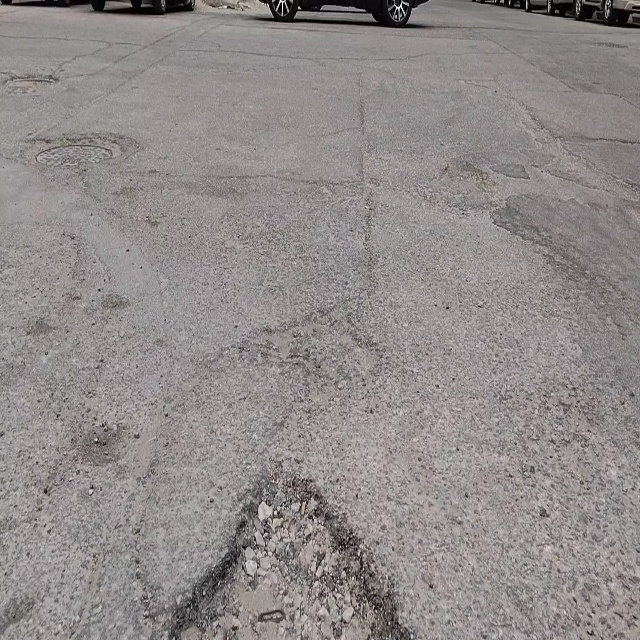pothole: (171, 470, 409, 640)
